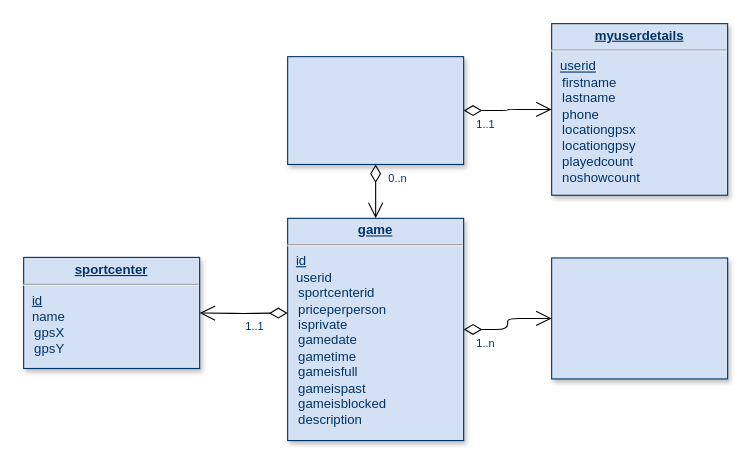
The diagram is 754 pixels wide and 468 high, and some of its shapes have lost their labels. Each missing label, with the centre of its shape:
"gameparticipants gameid playernumber userid noshow" belongs at (x=640, y=319).
"myuser id name password roles" belongs at (x=376, y=111).
